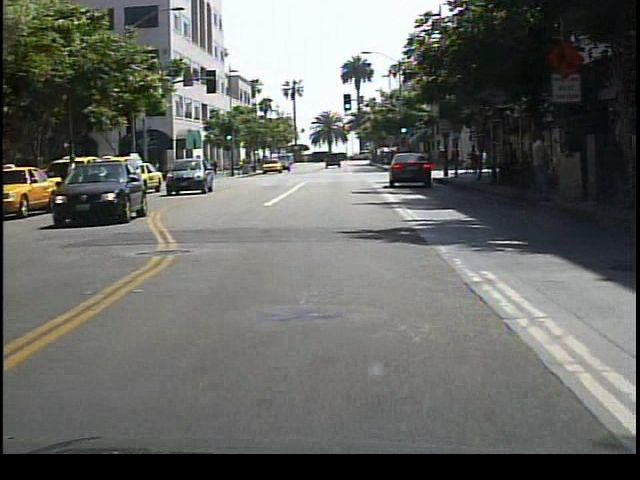person: (526, 128, 555, 207), (62, 148, 83, 208)
